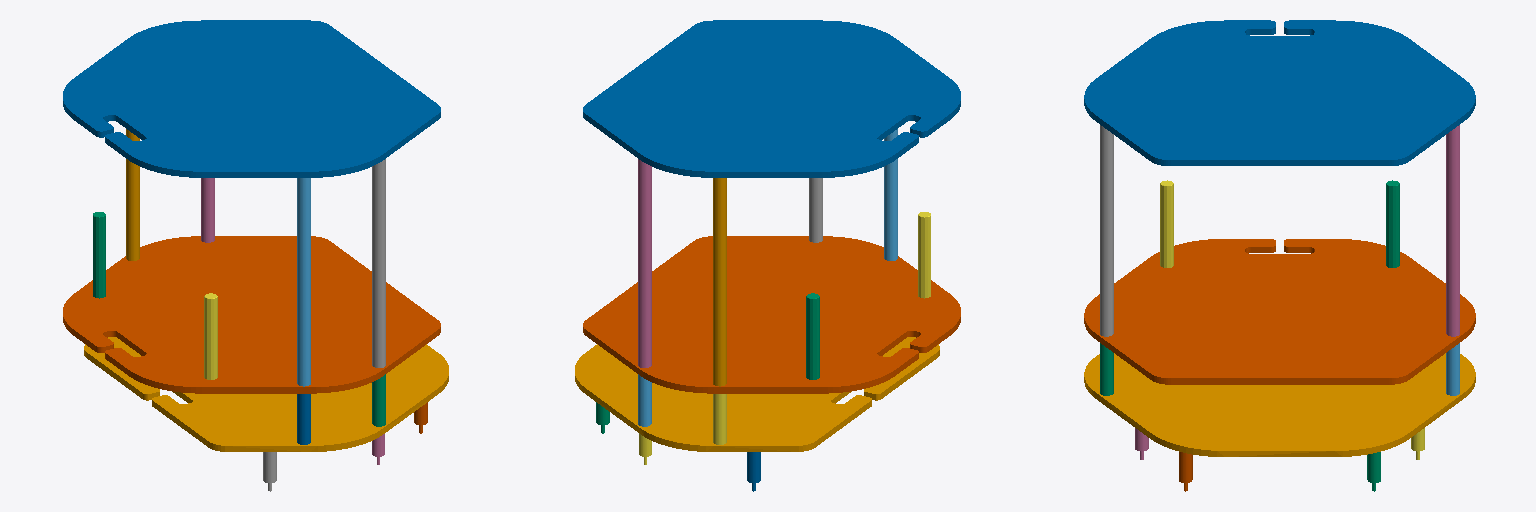
--- Render facts (derived) ---
3 views of the same robot in one strip: view 1: azimuth 30°, elevation 25°; view 2: azimuth 150°, elevation 25°; view 3: azimuth 270°, elevation 25° (orthographic).
Robot: turtlebot — 30 links, 29 joints (2 continuous, 27 fixed); root link base_footprint; default pose: all joints at 0.
Links seen in each view (by area): view 1: plate_top_link, plate_middle_link, plate_bottom_link, pole_top_3_link, pole_top_1_link, pole_top_2_link, pole_kinect_1_link, pole_kinect_0_link, pole_top_0_link, pole_middle_3_link, pole_middle_1_link; view 2: plate_top_link, plate_middle_link, plate_bottom_link, pole_top_2_link, pole_top_0_link, pole_top_3_link, pole_kinect_0_link, pole_kinect_1_link, pole_top_1_link, pole_middle_2_link, pole_middle_0_link; view 3: plate_top_link, plate_middle_link, plate_bottom_link, pole_top_0_link, pole_top_1_link, pole_kinect_0_link, pole_kinect_1_link, pole_middle_0_link, pole_middle_1_link.
Boxes of the visible links, box(x1,y1,x2,y2) form: plate_top_link: box(63, 20, 440, 177); plate_middle_link: box(63, 236, 440, 393); plate_bottom_link: box(84, 337, 448, 451); pole_top_3_link: box(297, 178, 310, 386); pole_top_1_link: box(372, 159, 385, 367); pole_top_2_link: box(126, 129, 139, 260); pole_kinect_1_link: box(204, 293, 217, 379); pole_kinect_0_link: box(93, 212, 105, 298); pole_top_0_link: box(201, 178, 214, 242); pole_middle_3_link: box(297, 394, 310, 444); pole_middle_1_link: box(372, 374, 385, 426); plate_top_link: box(583, 20, 960, 177); plate_middle_link: box(583, 236, 960, 393); plate_bottom_link: box(575, 337, 939, 451); pole_top_2_link: box(713, 178, 726, 386); pole_top_0_link: box(638, 159, 651, 367); pole_top_3_link: box(884, 129, 897, 260); pole_kinect_0_link: box(806, 293, 819, 379); pole_kinect_1_link: box(918, 212, 930, 298); pole_top_1_link: box(809, 178, 822, 242); pole_middle_2_link: box(713, 394, 726, 444); pole_middle_0_link: box(638, 374, 651, 426); plate_top_link: box(1084, 20, 1475, 165); plate_middle_link: box(1084, 239, 1475, 384); plate_bottom_link: box(1084, 353, 1475, 456); pole_top_0_link: box(1446, 125, 1459, 336); pole_top_1_link: box(1100, 125, 1113, 336); pole_kinect_0_link: box(1386, 180, 1399, 267); pole_kinect_1_link: box(1160, 180, 1173, 267); pole_middle_0_link: box(1446, 343, 1459, 395); pole_middle_1_link: box(1100, 343, 1113, 395).
Bounding box of the posed robot: 0.3146 × 0.34 × 0.3214 m (x, y, z).
Meshes: 10 distinct files referenced, 19 mesh visuals loaded (7 Collada DAE); not drawn: 4 (reference not matched to a file when rendering).

robot.urdf — turtlebot:
<?xml version="1.0" encoding="utf-8"?>
<!-- =================================================================================== -->
<!-- |    This document was autogenerated by xacro from kobuki_hexagons_hokuyo.urdf.xacro | -->
<!-- |    EDITING THIS FILE BY HAND IS NOT RECOMMENDED                                 | -->
<!-- =================================================================================== -->
<!--
    - Base      : kobuki
    - Stacks    : hexagons
    - 3d Sensor : kinect
-->
<robot name="turtlebot">
  <!-- 
    These properties must be observed by any machine
    that wants to be defined as a turtlebot. Refer
    to the REP for more details.
    
    http://www.ros.org/reps/rep-0119.html
   -->
  <!-- 
    These properties must be observed by any machine
    that wants to be defined as a turtlebot. Refer
    to the REP for more details.
    
    http://www.ros.org/reps/rep-0119.html
   -->
  <link name="base_footprint"/>
  <!--
       Base link is set at the bottom of the base mould.
       This is done to be compatible with the way base link
       was configured for turtlebot 1. Refer to

       https://github.com/turtlebot/turtlebot/issues/40

       To put the base link at the more oft used wheel
       axis, set the z-distance from the base_footprint
       to 0.352.
      -->
  <joint name="base_joint" type="fixed">
    <origin rpy="0 0 0" xyz="0 0 0.0102"/>
    <parent link="base_footprint"/>
    <child link="base_link"/>
  </joint>
  <link name="base_link">
    <visual>
      <geometry>
        <!-- new mesh -->
        <mesh filename="package://kobuki_description/meshes/main_body.dae"/>
      </geometry>
      <origin rpy="0 0 0" xyz="0.001 0 0.05199"/>
    </visual>
    <collision name="base">
      <geometry>
        <cylinder length="0.10938" radius="0.178"/>
      </geometry>
      <origin rpy="0 0 0" xyz="0.0 0 0.05949"/>
    </collision>
    <inertial>
      <!-- COM experimentally determined -->
      <origin xyz="0.01 0 0"/>
      <mass value="2.4"/>
      <!-- 2.4/2.6 kg for small/big battery pack -->
      <!-- Kobuki's inertia tensor is approximated by a cylinder with homogeneous mass distribution
             More details: http://en.wikipedia.org/wiki/List_of_moment_of_inertia_tensors
             m = 2.4 kg; h = 0.09 m; r = 0.175 m
             ixx = 1/12 * m * (3 * r^2 + h^2)
             iyy = 1/12 * m * (3 * r^2 + h^2)
             izz = 1/2 * m * r^2
          -->
      <inertia ixx="0.019995" ixy="0.0" ixz="0.0" iyy="0.019995" iyz="0.0" izz="0.03675"/>
    </inertial>
  </link>
  <joint name="wheel_left_joint" type="continuous">
    <parent link="base_link"/>
    <child link="wheel_left_link"/>
    <origin rpy="-1.57079632679 0 0" xyz="0.00 0.115 0.0250"/>
    <axis xyz="0 0 1"/>
  </joint>
  <link name="wheel_left_link">
    <visual>
      <geometry>
        <mesh filename="package://kobuki_description/meshes/wheel.dae"/>
      </geometry>
      <origin rpy="0 0 0" xyz="0 0 0"/>
    </visual>
    <collision>
      <geometry>
        <cylinder length="0.0206" radius="0.035"/>
      </geometry>
      <origin rpy="0 0 0" xyz="0 0 0"/>
    </collision>
    <inertial>
      <mass value="0.01"/>
      <origin xyz="0 0 0"/>
      <inertia ixx="0.001" ixy="0.0" ixz="0.0" iyy="0.001" iyz="0.0" izz="0.001"/>
    </inertial>
  </link>
  <joint name="wheel_right_joint" type="continuous">
    <parent link="base_link"/>
    <child link="wheel_right_link"/>
    <origin rpy="-1.57079632679 0 0" xyz="0.00 -0.115 0.0250"/>
    <axis xyz="0 0 1"/>
  </joint>
  <link name="wheel_right_link">
    <visual>
      <geometry>
        <mesh filename="package://kobuki_description/meshes/wheel.dae"/>
      </geometry>
      <origin rpy="0 0 0" xyz="0 0 0"/>
    </visual>
    <collision>
      <geometry>
        <cylinder length="0.0206" radius="0.035"/>
      </geometry>
      <origin rpy="0 0 0" xyz="0 0 0"/>
    </collision>
    <inertial>
      <mass value="0.01"/>
      <origin xyz="0 0 0"/>
      <inertia ixx="0.001" ixy="0.0" ixz="0.0" iyy="0.001" iyz="0.0" izz="0.001"/>
    </inertial>
  </link>
  <joint name="caster_front_joint" type="fixed">
    <parent link="base_link"/>
    <child link="caster_front_link"/>
    <origin rpy="-1.57079632679 0 0" xyz="0.115 0.0 0.007"/>
  </joint>
  <link name="caster_front_link">
    <collision>
      <geometry>
        <cylinder length="0.0176" radius="0.017"/>
      </geometry>
      <origin rpy="0 0 0" xyz="0 0 0"/>
    </collision>
    <inertial>
      <mass value="0.01"/>
      <origin xyz="0 0 0"/>
      <inertia ixx="0.001" ixy="0.0" ixz="0.0" iyy="0.001" iyz="0.0" izz="0.001"/>
    </inertial>
  </link>
  <joint name="caster_back_joint" type="fixed">
    <parent link="base_link"/>
    <child link="caster_back_link"/>
    <origin rpy="-1.57079632679 0 0" xyz="-0.135 0.0 0.009"/>
  </joint>
  <link name="caster_back_link">
    <collision>
      <geometry>
        <cylinder length="0.0176" radius="0.017"/>
      </geometry>
      <origin rpy="0 0 0" xyz="0 0 0"/>
    </collision>
    <inertial>
      <mass value="0.01"/>
      <origin xyz="0 0 0"/>
      <inertia ixx="0.001" ixy="0.0" ixz="0.0" iyy="0.001" iyz="0.0" izz="0.001"/>
    </inertial>
  </link>
  <!-- Kobuki's sensors -->
  <joint name="gyro_joint" type="fixed">
    <axis xyz="0 1 0"/>
    <origin rpy="0 0 0" xyz="0.056 0.062 0.0202"/>
    <parent link="base_link"/>
    <child link="gyro_link"/>
  </joint>
  <link name="gyro_link">
    <inertial>
      <mass value="0.001"/>
      <origin rpy="0 0 0" xyz="0 0 0"/>
      <inertia ixx="0.0001" ixy="0" ixz="0" iyy="0.000001" iyz="0" izz="0.0001"/>
    </inertial>
  </link>
  <joint name="cliff_sensor_left_joint" type="fixed">
    <origin rpy="0 1.57079632679 0" xyz="0.08734 0.13601 0.0214"/>
    <parent link="base_link"/>
    <child link="cliff_sensor_left_link"/>
  </joint>
  <link name="cliff_sensor_left_link">
    <inertial>
      <mass value="0.0001"/>
      <origin xyz="0 0 0"/>
      <inertia ixx="0.0001" ixy="0.0" ixz="0.0" iyy="0.0001" iyz="0.0" izz="0.0001"/>
    </inertial>
  </link>
  <joint name="cliff_sensor_right_joint" type="fixed">
    <origin rpy="0 1.57079632679 0" xyz="0.085 -0.13601 0.0214"/>
    <parent link="base_link"/>
    <child link="cliff_sensor_right_link"/>
  </joint>
  <link name="cliff_sensor_right_link">
    <inertial>
      <mass value="0.0001"/>
      <origin xyz="0 0 0"/>
      <inertia ixx="0.0001" ixy="0.0" ixz="0.0" iyy="0.0001" iyz="0.0" izz="0.0001"/>
    </inertial>
  </link>
  <joint name="cliff_sensor_front_joint" type="fixed">
    <origin rpy="0 1.57079632679 0" xyz="0.156 0.00 0.0214"/>
    <parent link="base_link"/>
    <child link="cliff_sensor_front_link"/>
  </joint>
  <link name="cliff_sensor_front_link">
    <inertial>
      <mass value="0.0001"/>
      <origin xyz="0 0 0"/>
      <inertia ixx="0.0001" ixy="0.0" ixz="0.0" iyy="0.0001" iyz="0.0" izz="0.0001"/>
    </inertial>
  </link>
  <gazebo reference="wheel_left_link">
    <mu1>1.0</mu1>
    <mu2>1.0</mu2>
    <kp>1000000.0</kp>
    <kd>100.0</kd>
    <minDepth>0.001</minDepth>
    <maxVel>1.0</maxVel>
    <sensor name="wheel_drop_left" type="contact">
      <always_on>1</always_on>
      <update_rate>50.0</update_rate>
      <visualize>true</visualize>
      <contact>
        <collision>wheel_left_link_collision</collision>
      </contact>
    </sensor>
  </gazebo>
  <gazebo reference="wheel_right_link">
    <mu1>1.0</mu1>
    <mu2>1.0</mu2>
    <kp>1000000.0</kp>
    <kd>100.0</kd>
    <minDepth>0.001</minDepth>
    <maxVel>1.0</maxVel>
    <sensor name="wheel_drop_right" type="contact">
      <always_on>1</always_on>
      <update_rate>50.0</update_rate>
      <visualize>true</visualize>
      <contact>
        <collision>wheel_right_link_collision</collision>
      </contact>
    </sensor>
  </gazebo>
  <gazebo reference="caster_front_link">
    <mu1>0.0</mu1>
    <mu2>0.0</mu2>
    <kp>1000000.0</kp>
    <kd>100.0</kd>
    <minDepth>0.001</minDepth>
    <maxVel>1.0</maxVel>
  </gazebo>
  <gazebo reference="caster_back_link">
    <mu1>0.0</mu1>
    <mu2>0.0</mu2>
    <kp>1000000.0</kp>
    <kd>100.0</kd>
    <minDepth>0.001</minDepth>
    <maxVel>1.0</maxVel>
  </gazebo>
  <gazebo reference="base_link">
    <mu1>0.3</mu1>
    <mu2>0.3</mu2>
    <sensor name="bumpers" type="contact">
      <always_on>1</always_on>
      <update_rate>50.0</update_rate>
      <visualize>true</visualize>
      <contact>
        <collision>base_footprint_fixed_joint_lump__base_collision</collision>
      </contact>
    </sensor>
  </gazebo>
  <gazebo reference="cliff_sensor_left_link">
    <sensor name="cliff_sensor_left" type="ray">
      <always_on>true</always_on>
      <update_rate>50</update_rate>
      <visualize>true</visualize>
      <ray>
        <scan>
          <horizontal>
            <samples>50</samples>
            <resolution>1.0</resolution>
            <min_angle>-0.0436</min_angle>
            <!-- -2.5 degree -->
            <max_angle>0.0436</max_angle>
            <!-- 2.5 degree -->
          </horizontal>
          <!--            Can't use vertical rays until this bug is resolved: -->
          <!--            https://bitbucket.org/osrf/gazebo/issue/509/vertical-sensor-doesnt-works -->
          <!--               <vertical> -->
          <!--                 <samples>50</samples> -->
          <!--                 <resolution>1.0</resolution> -->
          <!--                 <min_angle>-0.0436</min_angle>  -2.5 degree -->
          <!--                 <max_angle>0.0436</max_angle> 2.5 degree -->
          <!--               </vertical> -->
        </scan>
        <range>
          <min>0.01</min>
          <max>0.15</max>
          <resolution>1.0</resolution>
        </range>
      </ray>
    </sensor>
  </gazebo>
  <gazebo reference="cliff_sensor_right_link">
    <sensor name="cliff_sensor_right" type="ray">
      <always_on>true</always_on>
      <update_rate>50</update_rate>
      <visualize>true</visualize>
      <ray>
        <scan>
          <horizontal>
            <samples>50</samples>
            <resolution>1.0</resolution>
            <min_angle>-0.0436</min_angle>
            <!-- -2.5 degree -->
            <max_angle>0.0436</max_angle>
            <!-- 2.5 degree -->
          </horizontal>
          <!--            Can't use vertical rays until this bug is resolved: -->
          <!--            https://bitbucket.org/osrf/gazebo/issue/509/vertical-sensor-doesnt-works -->
          <!--               <vertical> -->
          <!--                 <samples>50</samples> -->
          <!--                 <resolution>1.0</resolution> -->
          <!--                 <min_angle>-0.0436</min_angle>  -2.5 degree -->
          <!--                 <max_angle>0.0436</max_angle> 2.5 degree -->
          <!--               </vertical> -->
        </scan>
        <range>
          <min>0.01</min>
          <max>0.15</max>
          <resolution>1.0</resolution>
        </range>
      </ray>
    </sensor>
  </gazebo>
  <gazebo reference="cliff_sensor_front_link">
    <sensor name="cliff_sensor_front" type="ray">
      <always_on>true</always_on>
      <update_rate>50</update_rate>
      <visualize>true</visualize>
      <ray>
        <scan>
          <horizontal>
            <samples>50</samples>
            <resolution>1.0</resolution>
            <min_angle>-0.0436</min_angle>
            <!-- -2.5 degree -->
            <max_angle>0.0436</max_angle>
            <!-- 2.5 degree -->
          </horizontal>
          <!--               Can't use vertical rays until this bug is resolved: -->
          <!--            https://bitbucket.org/osrf/gazebo/issue/509/vertical-sensor-doesnt-works -->
          <!--               <vertical> -->
          <!--                 <samples>50</samples> -->
          <!--                 <resolution>1.0</resolution> -->
          <!--                 <min_angle>-0.0436</min_angle>  -2.5 degree -->
          <!--                 <max_angle>0.0436</max_angle> 2.5 degree -->
          <!--               </vertical> -->
        </scan>
        <range>
          <min>0.01</min>
          <max>0.15</max>
          <resolution>1.0</resolution>
        </range>
      </ray>
    </sensor>
  </gazebo>
  <gazebo reference="gyro_link">
    <sensor name="imu" type="imu">
      <always_on>true</always_on>
      <update_rate>50</update_rate>
      <visualize>false</visualize>
      <imu>
        <noise>
          <type>gaussian</type>
          <rate>
            <mean>0.0</mean>
            <stddev>1.96e-06</stddev>
            <!-- 0.25 x 0.25 (deg/s) -->
            <bias_mean>0.0</bias_mean>
            <bias_stddev>0.0</bias_stddev>
          </rate>
          <accel>
            <!-- not used in the plugin and real robot, hence using tutorial values -->
            <mean>0.0</mean>
            <stddev>1.7e-2</stddev>
            <bias_mean>0.1</bias_mean>
            <bias_stddev>0.001</bias_stddev>
          </accel>
        </noise>
      </imu>
    </sensor>
  </gazebo>
  <gazebo>
    <plugin filename="libgazebo_ros_kobuki.so" name="kobuki_controller">
      <publish_tf>1</publish_tf>
      <left_wheel_joint_name>wheel_left_joint</left_wheel_joint_name>
      <right_wheel_joint_name>wheel_right_joint</right_wheel_joint_name>
      <wheel_separation>.230</wheel_separation>
      <wheel_diameter>0.070</wheel_diameter>
      <torque>1.0</torque>
      <velocity_command_timeout>0.6</velocity_command_timeout>
      <cliff_sensor_left_name>cliff_sensor_left</cliff_sensor_left_name>
      <cliff_sensor_center_name>cliff_sensor_front</cliff_sensor_center_name>
      <cliff_sensor_right_name>cliff_sensor_right</cliff_sensor_right_name>
      <cliff_detection_threshold>0.04</cliff_detection_threshold>
      <bumper_name>bumpers</bumper_name>
      <imu_name>imu</imu_name>
      <wheel_drop_left_sensor_name>wheel_drop_left</wheel_drop_left_sensor_name>
      <wheel_drop_right_sensor_name>wheel_drop_right</wheel_drop_right_sensor_name>
    </plugin>
  </gazebo>
  <joint name="pole_bottom_0_joint" type="fixed">
    <origin rpy="0 0 0" xyz="0.12 0.082 0.1028"/>
    <parent link="base_link"/>
    <child link="pole_bottom_0_link"/>
  </joint>
  <link name="pole_bottom_0_link">
    <visual>
      <origin rpy="0 0 0" xyz="0 0 0"/>
      <geometry>
        <mesh filename="package://turtlebot_description/meshes/stacks/hexagons/pole_bottom.dae"/>
      </geometry>
    </visual>
    <collision>
      <origin rpy="0 0 0" xyz="0 0 0"/>
      <geometry>
        <cylinder length="0.0492" radius="0.006"/>
      </geometry>
    </collision>
    <inertial>
      <mass value="0.008"/>
      <origin rpy="0 0 0" xyz="0 0 0"/>
      <inertia ixx="0.000001686" ixy="0.0" ixz="0.0" iyy="0.000001686" iyz="0.0" izz="0.000000144"/>
    </inertial>
  </link>
  <joint name="pole_bottom_1_joint" type="fixed">
    <origin rpy="0 0 0" xyz="0.055 0.12 0.1028"/>
    <parent link="base_link"/>
    <child link="pole_bottom_1_link"/>
  </joint>
  <link name="pole_bottom_1_link">
    <visual>
      <origin rpy="0 0 0" xyz="0 0 0"/>
      <geometry>
        <mesh filename="package://turtlebot_description/meshes/stacks/hexagons/pole_bottom.dae"/>
      </geometry>
    </visual>
    <collision>
      <origin rpy="0 0 0" xyz="0 0 0"/>
      <geometry>
        <cylinder length="0.0492" radius="0.006"/>
      </geometry>
    </collision>
    <inertial>
      <mass value="0.008"/>
      <origin rpy="0 0 0" xyz="0 0 0"/>
      <inertia ixx="0.000001686" ixy="0.0" ixz="0.0" iyy="0.000001686" iyz="0.0" izz="0.000000144"/>
    </inertial>
  </link>
  <joint name="pole_bottom_2_joint" type="fixed">
    <origin rpy="0 0 0" xyz="-0.055 0.12 0.1028"/>
    <parent link="base_link"/>
    <child link="pole_bottom_2_link"/>
  </joint>
  <link name="pole_bottom_2_link">
    <visual>
      <origin rpy="0 0 0" xyz="0 0 0"/>
      <geometry>
        <mesh filename="package://turtlebot_description/meshes/stacks/hexagons/pole_bottom.dae"/>
      </geometry>
    </visual>
    <collision>
      <origin rpy="0 0 0" xyz="0 0 0"/>
      <geometry>
        <cylinder length="0.0492" radius="0.006"/>
      </geometry>
    </collision>
    <inertial>
      <mass value="0.008"/>
      <origin rpy="0 0 0" xyz="0 0 0"/>
      <inertia ixx="0.000001686" ixy="0.0" ixz="0.0" iyy="0.000001686" iyz="0.0" izz="0.000000144"/>
    </inertial>
  </link>
  <joint name="pole_bottom_3_joint" type="fixed">
    <origin rpy="0 0 0" xyz="0.12 -0.082 0.1028"/>
    <parent link="base_link"/>
    <child link="pole_bottom_3_link"/>
  </joint>
  <link name="pole_bottom_3_link">
    <visual>
      <origin rpy="0 0 0" xyz="0 0 0"/>
      <geometry>
        <mesh filename="package://turtlebot_description/meshes/stacks/hexagons/pole_bottom.dae"/>
      </geometry>
    </visual>
    <collision>
      <origin rpy="0 0 0" xyz="0 0 0"/>
      <geometry>
        <cylinder length="0.0492" radius="0.006"/>
      </geometry>
    </collision>
    <inertial>
      <mass value="0.008"/>
      <origin rpy="0 0 0" xyz="0 0 0"/>
      <inertia ixx="0.000001686" ixy="0.0" ixz="0.0" iyy="0.000001686" iyz="0.0" izz="0.000000144"/>
    </inertial>
  </link>
  <joint name="pole_bottom_4_joint" type="fixed">
    <origin rpy="0 0 0" xyz="0.055 -0.12 0.1028"/>
    <parent link="base_link"/>
    <child link="pole_bottom_4_link"/>
  </joint>
  <link name="pole_bottom_4_link">
    <visual>
      <origin rpy="0 0 0" xyz="0 0 0"/>
      <geometry>
        <mesh filename="package://turtlebot_description/meshes/stacks/hexagons/pole_bottom.dae"/>
      </geometry>
    </visual>
    <collision>
      <origin rpy="0 0 0" xyz="0 0 0"/>
      <geometry>
        <cylinder length="0.0492" radius="0.006"/>
      </geometry>
    </collision>
    <inertial>
      <mass value="0.008"/>
      <origin rpy="0 0 0" xyz="0 0 0"/>
      <inertia ixx="0.000001686" ixy="0.0" ixz="0.0" iyy="0.000001686" iyz="0.0" izz="0.000000144"/>
    </inertial>
  </link>
  <joint name="pole_bottom_5_joint" type="fixed">
    <origin rpy="0 0 0" xyz="-0.055 -0.12 0.1028"/>
    <parent link="base_link"/>
    <child link="pole_bottom_5_link"/>
  </joint>
  <link name="pole_bottom_5_link">
    <visual>
      <origin rpy="0 0 0" xyz="0 0 0"/>
      <geometry>
        <mesh filename="package://turtlebot_description/meshes/stacks/hexagons/pole_bottom.dae"/>
      </geometry>
    </visual>
    <collision>
      <origin rpy="0 0 0" xyz="0 0 0"/>
      <geometry>
        <cylinder length="0.0492" radius="0.006"/>
      </geometry>
    </collision>
    <inertial>
      <mass value="0.008"/>
      <origin rpy="0 0 0" xyz="0 0 0"/>
      <inertia ixx="0.000001686" ixy="0.0" ixz="0.0" iyy="0.000001686" iyz="0.0" izz="0.000000144"/>
    </inertial>
  </link>
  <joint name="plate_bottom_joint" type="fixed">
    <origin rpy="0 0 0" xyz="0.02364 0.0 0.1306"/>
    <parent link="base_link"/>
    <child link="plate_bottom_link"/>
  </joint>
  <link name="plate_bottom_link">
    <visual>
      <origin rpy="0 0 0" xyz="0 0 0"/>
      <geometry>
        <mesh filename="package://turtlebot_description/meshes/stacks/hexagons/plate_bottom.dae"/>
      </geometry>
    </visual>
    <collision>
      <origin rpy="0 0 0" xyz="-0.02364 0 0"/>
      <geometry>
        <cylinder length="0.006" radius="0.170"/>
      </geometry>
    </collision>
    <inertial>
      <mass value="0.520"/>
      <origin xyz="0 0 0"/>
      <inertia ixx="0.003328" ixy="0.0" ixz="0.0" iyy="0.003328" iyz="0.0" izz="0.006656"/>
    </inertial>
  </link>
  <joint name="pole_middle_0_joint" type="fixed">
    <origin rpy="0 0 0" xyz="0.0381 0.1505 0.164"/>
    <parent link="base_link"/>
    <child link="pole_middle_0_link"/>
  </joint>
  <link name="pole_middle_0_link">
    <visual>
      <origin rpy="0 3.14159265359 0" xyz="0 0 0"/>
      <geometry>
        <mesh filename="package://turtlebot_description/meshes/stacks/hexagons/pole_middle.dae"/>
      </geometry>
    </visual>
    <collision>
      <origin rpy="0 0 0" xyz="0 0 0"/>
      <geometry>
        <cylinder length="0.0608" radius="0.006"/>
      </geometry>
    </collision>
    <inertial>
      <mass value="0.012"/>
      <origin xyz="0 0 0"/>
      <inertia ixx="0.000003805" ixy="0.0" ixz="0.0" iyy="0.000003805" iyz="0.0" izz="0.000000216"/>
    </inertial>
  </link>
  <joint name="pole_middle_1_joint" type="fixed">
    <origin rpy="0 0 0" xyz="0.0381 -0.1505 0.164"/>
    <parent link="base_link"/>
    <child link="pole_middle_1_link"/>
  </joint>
  <link name="pole_middle_1_link">
    <visual>
      <origin rpy="0 3.14159265359 0" xyz="0 0 0"/>
      <geometry>
        <mesh filename="package://turtlebot_description/meshes/stacks/hexagons/pole_middle.dae"/>
      </geometry>
    </visual>
    <collision>
      <origin rpy="0 0 0" xyz="0 0 0"/>
      <geometry>
        <cylinder length="0.0608" radius="0.006"/>
      </geometry>
    </collision>
    <inertial>
      <mass value="0.012"/>
      <origin xyz="0 0 0"/>
      <inertia ixx="0.000003805" ixy="0.0" ixz="0.0" iyy="0.000003805" iyz="0.0" izz="0.000000216"/>
    </inertial>
  </link>
  <joint name="pole_middle_2_joint" type="fixed">
    <origin rpy="0 0 0" xyz="-0.0381 0.1505 0.164"/>
    <parent link="base_link"/>
    <child link="pole_middle_2_link"/>
  </joint>
  <link name="pole_middle_2_link">
    <visual>
      <origin rpy="0 3.14159265359 0" xyz="0 0 0"/>
      <geometry>
        <mesh filename="package://turtlebot_description/meshes/stacks/hexagons/pole_middle.dae"/>
      </geometry>
    </visual>
    <collision>
      <origin rpy="0 0 0" xyz="0 0 0"/>
      <geometry>
        <cylinder length="0.0608" radius="0.006"/>
      </geometry>
    </collision>
    <inertial>
      <mass value="0.012"/>
      <origin xyz="0 0 0"/>
      <inertia ixx="0.000003805" ixy="0.0" ixz="0.0" iyy="0.000003805" iyz="0.0" izz="0.000000216"/>
    </inertial>
  </link>
  <joint name="pole_middle_3_joint" type="fixed">
    <origin rpy="0 0 0" xyz="-0.0381 -0.1505 0.164"/>
    <parent link="base_link"/>
    <child link="pole_middle_3_link"/>
  </joint>
  <link name="pole_middle_3_link">
    <visual>
      <origin rpy="0 3.14159265359 0" xyz="0 0 0"/>
      <geometry>
        <mesh filename="package://turtlebot_description/meshes/stacks/hexagons/pole_middle.dae"/>
      </geometry>
    </visual>
    <collision>
      <origin rpy="0 0 0" xyz="0 0 0"/>
      <geometry>
        <cylinder length="0.0608" radius="0.006"/>
      </geometry>
    </collision>
    <inertial>
      <mass value="0.012"/>
      <origin xyz="0 0 0"/>
      <inertia ixx="0.000003805" ixy="0.0" ixz="0.0" iyy="0.000003805" iyz="0.0" izz="0.000000216"/>
    </inertial>
  </link>
  <joint name="plate_middle_joint" type="fixed">
    <origin rpy="0 0 0" xyz="-0.01364 0.0 0.1874"/>
    <parent link="base_link"/>
    <child link="plate_middle_link"/>
  </joint>
  <link name="plate_middle_link">
    <visual>
      <origin rpy="0 0 0" xyz="0 0 0"/>
      <geometry>
        <mesh filename="package://turtlebot_description/meshes/stacks/hexagons/plate_middle.dae"/>
      </geometry>
    </visual>
    <collision>
      <origin rpy="0 0 0" xyz="0.01364 0.0 0.0"/>
      <geometry>
        <cylinder length="0.006" radius="0.170"/>
      </geometry>
    </collision>
    <inertial>
      <mass value="0.520"/>
      <origin xyz="0 0 0"/>
      <inertia ixx="0.003328" ixy="0.0" ixz="0.0" iyy="0.003328" iyz="0.0" izz="0.006656"/>
    </inertial>
  </link>
  <joint name="pole_top_0_joint" type="fixed">
    <origin rpy="0 0 0" xyz="0.0381 0.1505 0.292"/>
    <parent link="base_link"/>
    <child link="pole_top_0_link"/>
  </joint>
  <link name="pole_top_0_link">
    <visual>
      <origin rpy="0 0 0" xyz=" 0 0 0"/>
      <geometry>
        <mesh filename="package://turtlebot_description/meshes/stacks/hexagons/pole_top.dae"/>
      </geometry>
    </visual>
    <collision>
      <origin rpy="0 0 0" xyz="0 0 0"/>
      <geometry>
        <cylinder length="0.2032" radius="0.006"/>
      </geometry>
    </collision>
    <inertial>
      <mass value="0.060"/>
      <origin xyz="0 0 0"/>
      <inertia ixx="0.000206991" ixy="0.0" ixz="0.0" iyy="0.000206991" iyz="0.0" izz="0.000001080"/>
    </inertial>
  </link>
  <joint name="pole_top_1_joint" type="fixed">
    <origin rpy="0 0 0" xyz="0.0381 -0.1505 0.292"/>
    <parent link="base_link"/>
    <child link="pole_top_1_link"/>
  </joint>
  <link name="pole_top_1_link">
    <visual>
      <origin rpy="0 0 0" xyz=" 0 0 0"/>
      <geometry>
        <mesh filename="package://turtlebot_description/meshes/stacks/hexagons/pole_top.dae"/>
      </geometry>
    </visual>
    <collision>
      <origin rpy="0 0 0" xyz="0 0 0"/>
      <geometry>
        <cylinder length="0.2032" radius="0.006"/>
      </geometry>
    </collision>
    <inertial>
      <mass value="0.060"/>
      <origin xyz="0 0 0"/>
      <inertia ixx="0.000206991" ixy="0.0" ixz="0.0" iyy="0.000206991" iyz="0.0" izz="0.000001080"/>
    </inertial>
  </link>
  <joint name="pole_top_2_joint" type="fixed">
    <origin rpy="0 0 0" xyz="-0.0381 0.1505 0.292"/>
    <parent link="base_link"/>
    <child link="pole_top_2_link"/>
  </joint>
  <link name="pole_top_2_link">
    <visual>
      <origin rpy="0 0 0" xyz=" 0 0 0"/>
      <geometry>
        <mesh filename="package://turtlebot_description/meshes/stacks/hexagons/pole_top.dae"/>
      </geometry>
    </visual>
    <collision>
      <origin rpy="0 0 0" xyz="0 0 0"/>
      <geometry>
        <cylinder length="0.2032" radius="0.006"/>
      </geometry>
    </collision>
    <inertial>
      <mass value="0.060"/>
      <origin xyz="0 0 0"/>
      <inertia ixx="0.000206991" ixy="0.0" ixz="0.0" iyy="0.000206991" iyz="0.0" izz="0.000001080"/>
    </inertial>
  </link>
  <joint name="pole_top_3_joint" type="fixed">
    <origin rpy="0 0 0" xyz="-0.0381 -0.1505 0.292"/>
    <parent link="base_link"/>
    <child link="pole_top_3_link"/>
  </joint>
  <link name="pole_top_3_link">
    <visual>
      <origin rpy="0 0 0" xyz=" 0 0 0"/>
      <geometry>
        <mesh filename="package://turtlebot_description/meshes/stacks/hexagons/pole_top.dae"/>
      </geometry>
    </visual>
    <collision>
      <origin rpy="0 0 0" xyz="0 0 0"/>
      <geometry>
        <cylinder length="0.2032" radius="0.006"/>
      </geometry>
    </collision>
    <inertial>
      <mass value="0.060"/>
      <origin xyz="0 0 0"/>
      <inertia ixx="0.000206991" ixy="0.0" ixz="0.0" iyy="0.000206991" iyz="0.0" izz="0.000001080"/>
    </inertial>
  </link>
  <joint name="pole_kinect_0_joint" type="fixed">
    <origin rpy="0 0 0" xyz="-0.1024 0.098 0.2372"/>
    <parent link="base_link"/>
    <child link="pole_kinect_0_link"/>
  </joint>
  <link name="pole_kinect_0_link">
    <visual>
      <origin rpy="0 0 0" xyz="0 0 -0.01"/>
      <geometry>
        <mesh filename="package://turtlebot_description/meshes/sensors/sensor_pole.dae"/>
      </geometry>
    </visual>
    <collision>
      <origin rpy="0 0 0" xyz="0 0 0"/>
      <geometry>
        <cylinder length="0.0936" radius="0.006"/>
      </geometry>
    </collision>
    <inertial>
      <mass value="0.020"/>
      <origin xyz="0 0 0"/>
      <inertia ixx="0.000014782" ixy="0.0" ixz="0.0" iyy="0.000014782" iyz="0.0" izz="0.000000360"/>
    </inertial>
  </link>
  <joint name="pole_kinect_1_joint" type="fixed">
    <origin rpy="0 0 0" xyz="-0.1024 -0.098 0.2372"/>
    <parent link="base_link"/>
    <child link="pole_kinect_1_link"/>
  </joint>
  <link name="pole_kinect_1_link">
    <visual>
      <origin rpy="0 0 0" xyz="0 0 -0.01"/>
      <geometry>
        <mesh filename="package://turtlebot_description/meshes/sensors/sensor_pole.dae"/>
      </geometry>
    </visual>
    <collision>
      <origin rpy="0 0 0" xyz="0 0 0"/>
      <geometry>
        <cylinder length="0.0936" radius="0.006"/>
      </geometry>
    </collision>
    <inertial>
      <mass value="0.020"/>
      <origin xyz="0 0 0"/>
      <inertia ixx="0.000014782" ixy="0.0" ixz="0.0" iyy="0.000014782" iyz="0.0" izz="0.000000360"/>
    </inertial>
  </link>
  <joint name="plate_top_joint" type="fixed">
    <origin rpy="0 0 0" xyz="-0.01364 0.0  0.3966"/>
    <parent link="base_link"/>
    <child link="plate_top_link"/>
  </joint>
  <link name="plate_top_link">
    <visual>
      <origin rpy="0 0 0" xyz="0 0 0"/>
      <geometry>
        <mesh filename="package://turtlebot_description/meshes/stacks/hexagons/plate_top.dae"/>
      </geometry>
    </visual>
    <collision>
      <origin rpy="0 0 0" xyz="0.01364 0 0"/>
      <geometry>
        <cylinder length="0.006" radius="0.170"/>
      </geometry>
    </collision>
    <inertial>
      <mass value="0.520"/>
      <origin xyz="0 0 0"/>
      <inertia ixx="0.003328" ixy="0.0" ixz="0.0" iyy="0.003328" iyz="0.0" izz="0.006656"/>
    </inertial>
  </link>
  <sensor_asus_xtion_pro parent="base_link"/>
  <link name="hokuyo_link">
    <collision>
      <origin rpy="0 0 0" xyz="0 0 0"/>
      <geometry>
        <box size="0.1 0.1 0.1"/>
      </geometry>
    </collision>
    <visual>
      <origin rpy="0 0 0" xyz="0 0 0"/>
      <geometry>
        <mesh filename="package://turtlebot_description/meshes/sensors/hokuyo.dae"/>
      </geometry>
    </visual>
    <inertial>
      <mass value="1e-5"/>
      <origin rpy="0 0 0" xyz="0 0 0"/>
      <inertia ixx="1e-6" ixy="0" ixz="0" iyy="1e-6" iyz="0" izz="1e-6"/>
    </inertial>
  </link>
  <joint name="hokuyo_joint" type="fixed">
    <!--<axis xyz="0 0 1" />-->
    <origin rpy="0 0 3.1415926" xyz="0 0 0.430"/>
    <parent link="base_link"/>
    <child link="hokuyo_link"/>
  </joint>
  <!-- ULM-30LX Hokuyo Laser Range Finder -->
  <gazebo reference="hokuyo_link">
    <sensor name="head_hokuyo_sensor" type="gpu_ray">
      <pose>0 0 0 0 0 0</pose>
      <visualize>False</visualize>
      <update_rate>20</update_rate>
      <ray>
        <scan>
          <horizontal>
            <samples>720</samples>
            <resolution>1</resolution>
            <min_angle>-3.12413907051</min_angle>
            <max_angle>3.14159274101</max_angle>
          </horizontal>
        </scan>
        <range>
          <min>0.15</min>
          <max>40.0</max>
          <resolution>0.01</resolution>
        </range>
        <noise>
          <type>gaussian</type>
          <!-- Noise parameters based on published spec for Hokuyo laser
               achieving "+-30mm" accuracy at range < 10m.  A mean of 0.0m and
               stddev of 0.01m will put 99.7% of samples within 0.03m of the true
               reading. -->
          <mean>0.0</mean>
          <stddev>0.01</stddev>
        </noise>
      </ray>
      <plugin filename="libgazebo_ros_gpu_laser.so" name="gazebo_ros_head_hokuyo_controller">
        <visualize>false</visualize>
        <topicName>lpscan</topicName>
        <frameName>hokuyo_link</frameName>
      </plugin>
    </sensor>
  </gazebo>
</robot>
